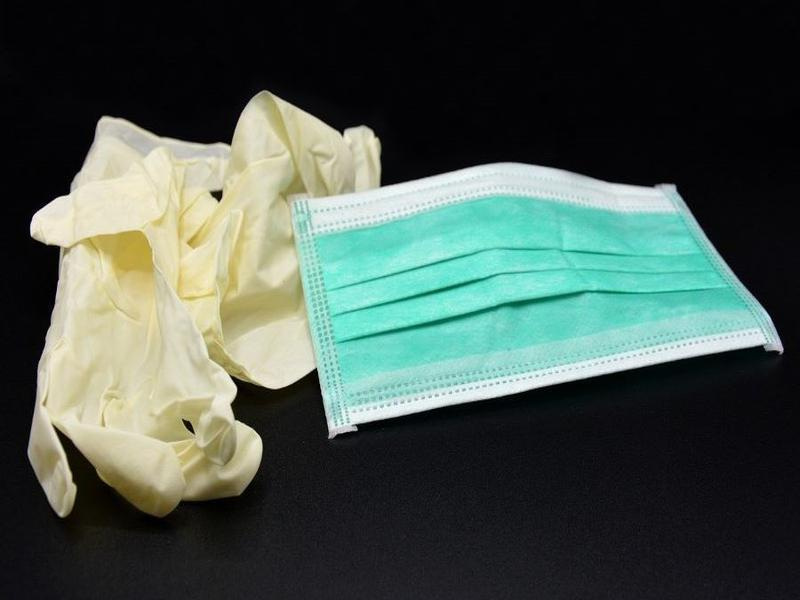gloves: (24, 83, 383, 524)
mask: (288, 152, 785, 441)
